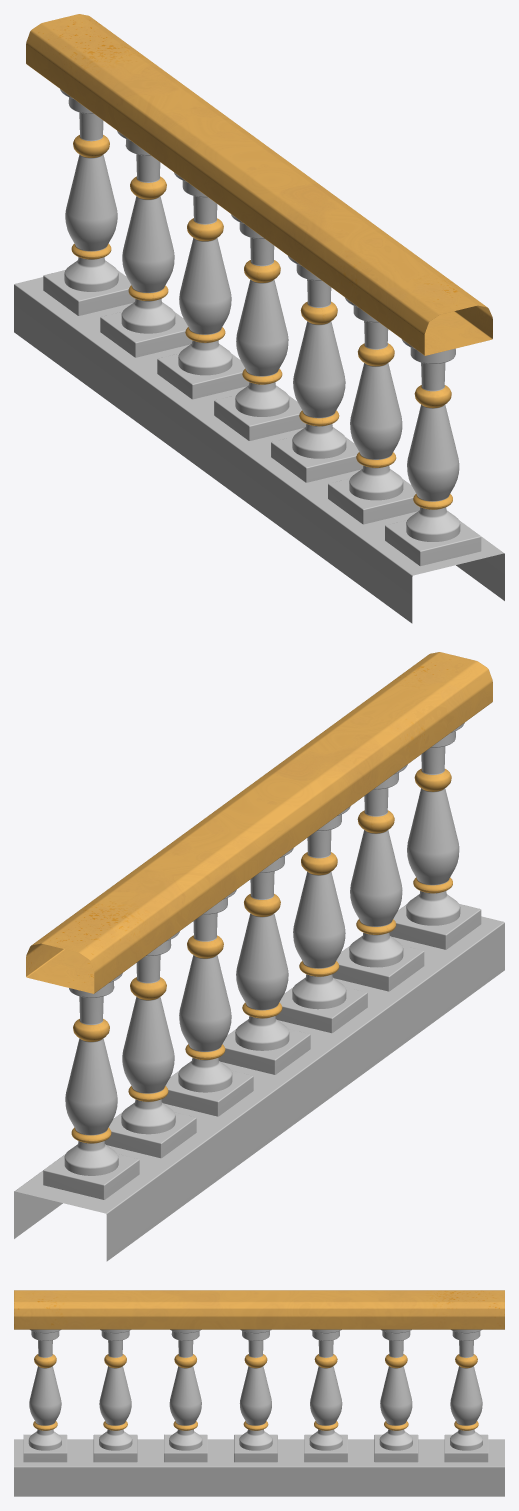
Rendered from SM_Railing_Middle.fbx.
3 renders of one model, top to bottom at view 1: azimuth 30°, elevation 25°; view 2: azimuth 150°, elevation 25°; view 3: azimuth 270°, elevation 25°, orthographic. The views are drawn at different scales.
Parts seen in each view (by area): view 1: SM_Railing_Middle_LOD0; view 2: SM_Railing_Middle_LOD0; view 3: SM_Railing_Middle_LOD0.
Part boxes in pixels (bbox=[...]): SM_Railing_Middle_LOD0: bbox=[14, 14, 504, 623]; SM_Railing_Middle_LOD0: bbox=[14, 652, 504, 1261]; SM_Railing_Middle_LOD0: bbox=[14, 1290, 504, 1496].
Size of the model in its own units: 40.22 by 300 by 126.
